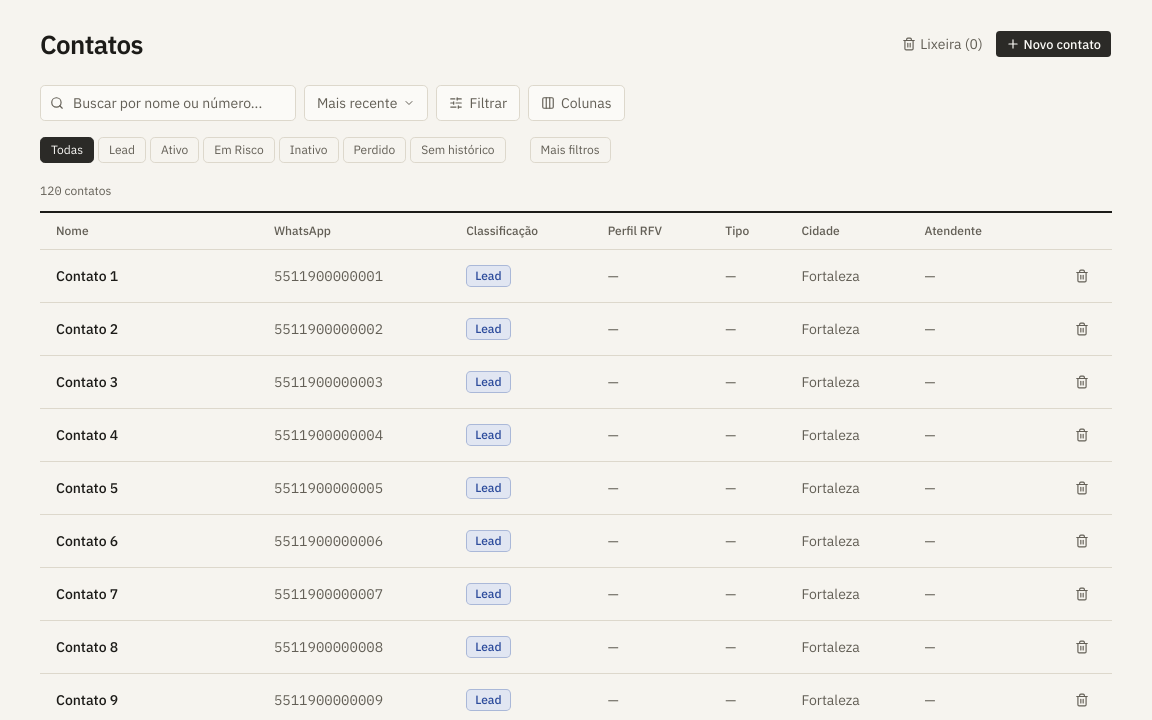
Scenario: B37-01 — filtro avançado na lista de contatos › CA-B37-01: should abrir o painel com um grupo vazio e a opção de acrescentar condição
Click the button "Filtrar": (478, 102) [436, 84, 520, 120]
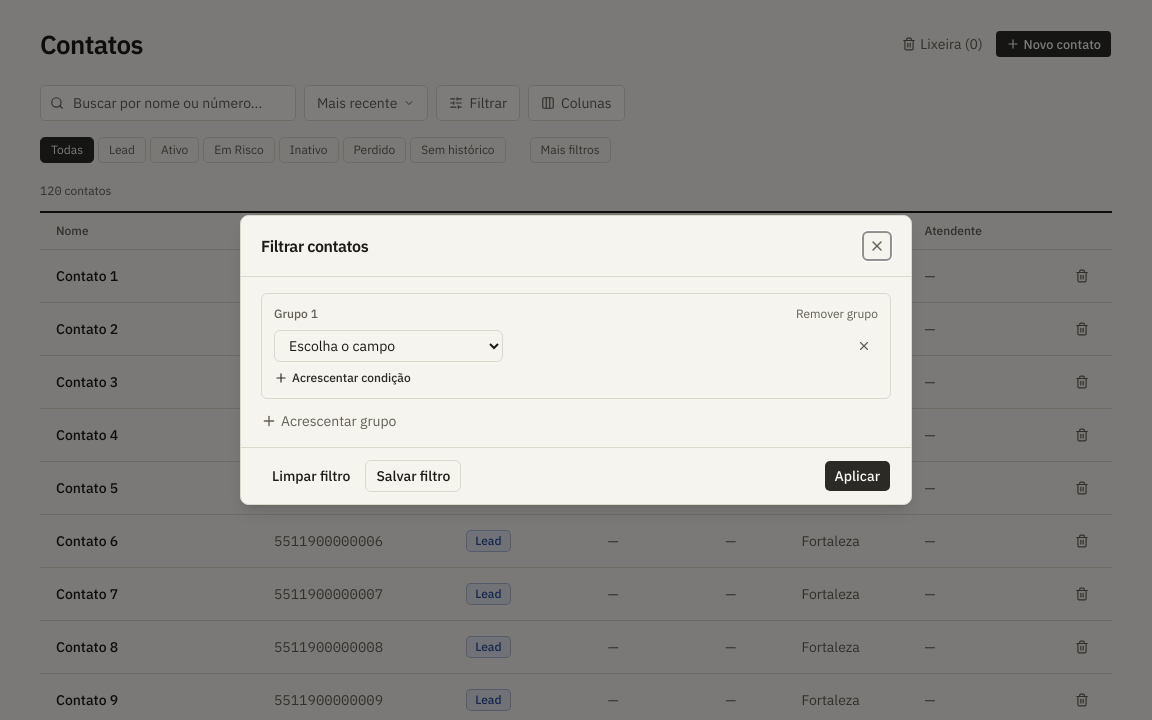
Expected: the element "Grupo 1" is shown, [261, 293, 891, 399]
Expected: the dropdown named "Campo" shows "Escolha o campo", [274, 330, 503, 362]
Expected: the button "Acrescentar condição" is shown, [274, 370, 411, 386]
